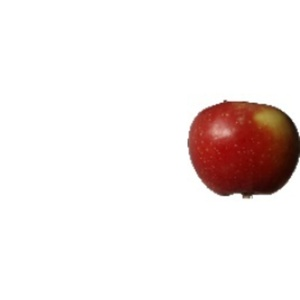maçã braeburn: (186, 99, 300, 198)
